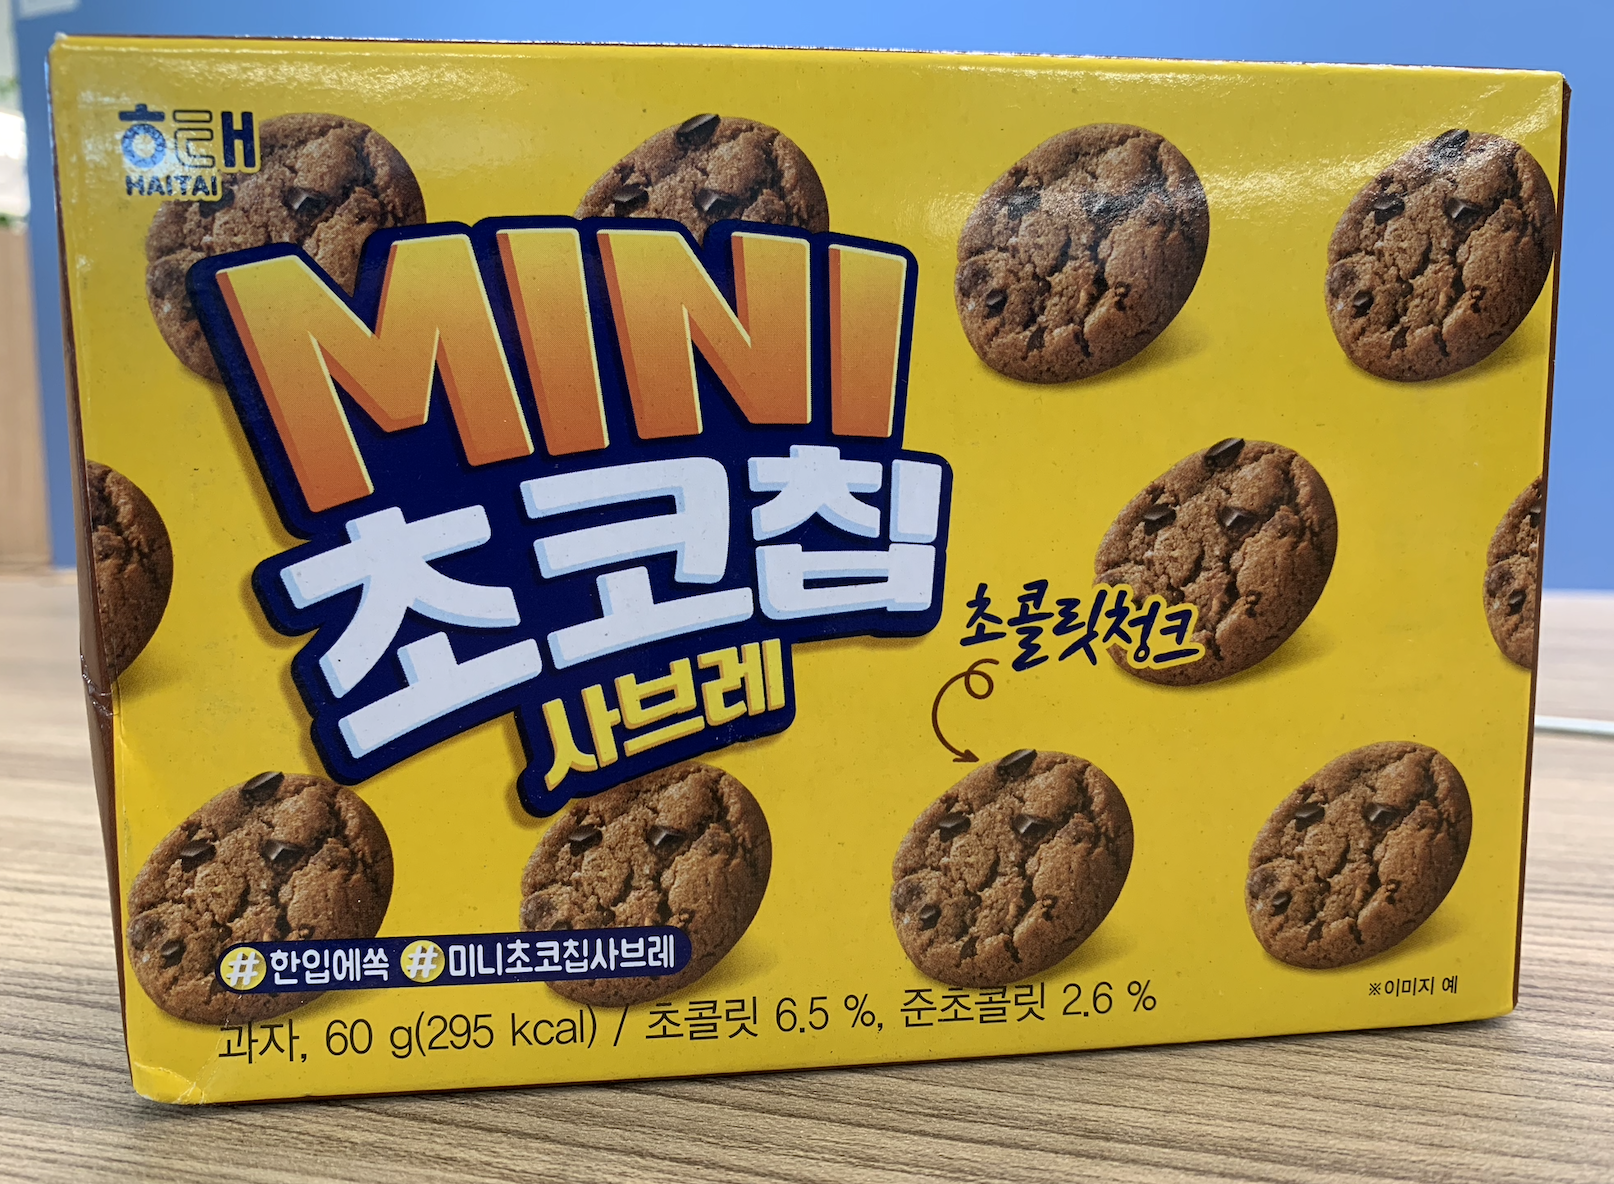cookies_1g-99g: (112, 58, 1507, 1066)
